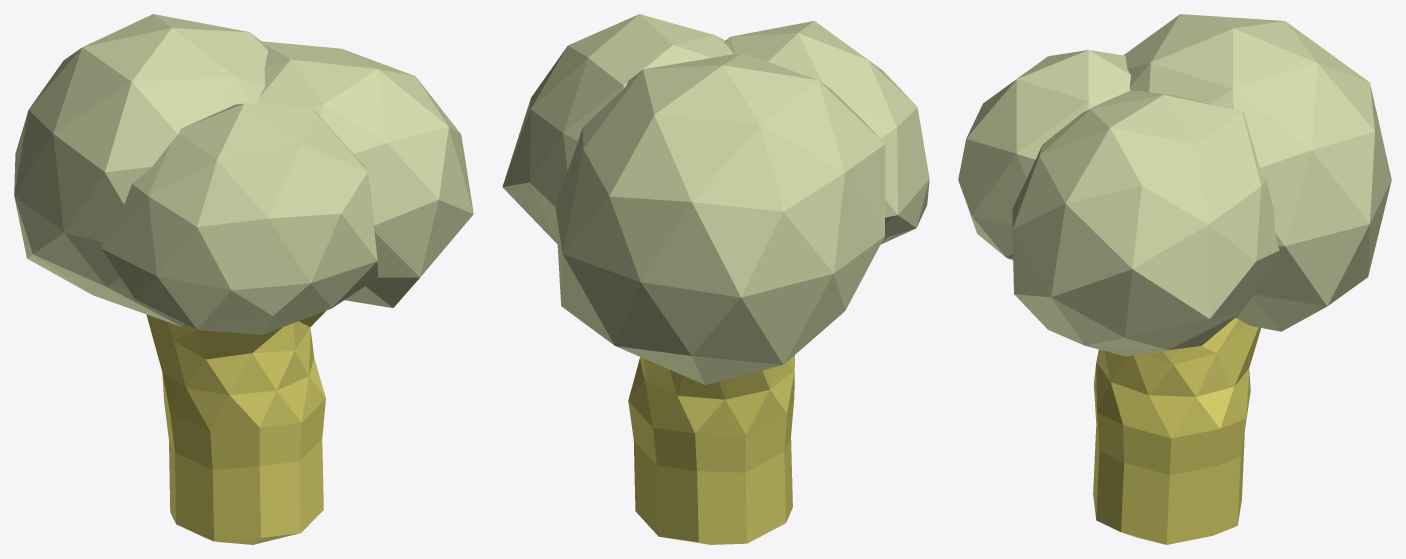
Rendered from cauli.fbx.
The picture shows the model from 3 angles, left to right: view 1: azimuth 30°, elevation 25°; view 2: azimuth 150°, elevation 25°; view 3: azimuth 270°, elevation 25°; orthographic projection. The views are drawn at different scales.
Parts seen in each view (by area): view 1: Icosphere, Icosphere.001; view 2: Icosphere, Icosphere.001; view 3: Icosphere, Icosphere.001.
Boxes of the visible parts, x1=… form: Icosphere: x1=14, y1=14, x2=473, y2=334; Icosphere.001: x1=146, y1=311, x2=325, y2=544; Icosphere: x1=502, y1=14, x2=929, y2=384; Icosphere.001: x1=628, y1=355, x2=794, y2=544; Icosphere: x1=958, y1=14, x2=1391, y2=356; Icosphere.001: x1=1093, y1=318, x2=1260, y2=544.
Bounding box in the file's own units: 667 × 849 × 683.
